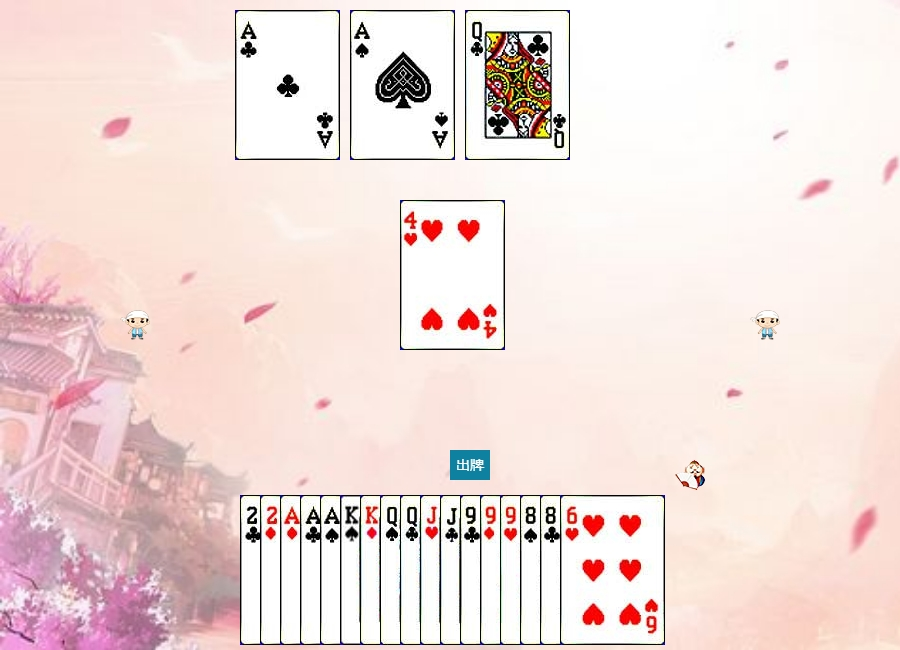11~2: (440, 495, 545, 645)
11~3: (420, 495, 525, 645)
12~2: (465, 10, 570, 160), (400, 495, 505, 645)
12~4: (380, 495, 485, 645)
13~1: (360, 495, 465, 645)
13~4: (340, 495, 445, 645)
14~1: (280, 495, 385, 645)
14~2: (235, 10, 340, 160), (300, 495, 405, 645)
14~4: (350, 10, 455, 160), (320, 495, 425, 645)
15~1: (260, 495, 365, 645)
15~2: (240, 495, 345, 645)
4~3: (400, 200, 505, 350)
6~3: (560, 495, 665, 645)
8~2: (540, 495, 645, 645)
8~4: (520, 495, 625, 645)
9~1: (480, 495, 585, 645)
9~2: (460, 495, 565, 645)
9~3: (500, 495, 605, 645)
